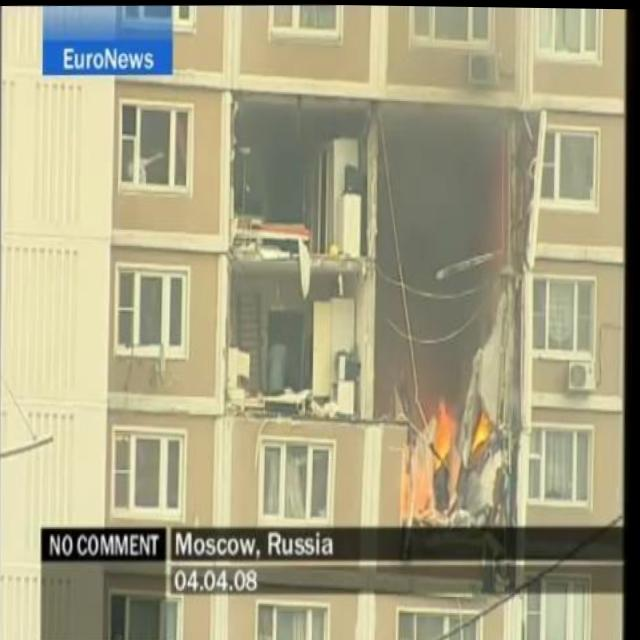fire: (429, 397, 463, 471), (475, 405, 497, 453)
